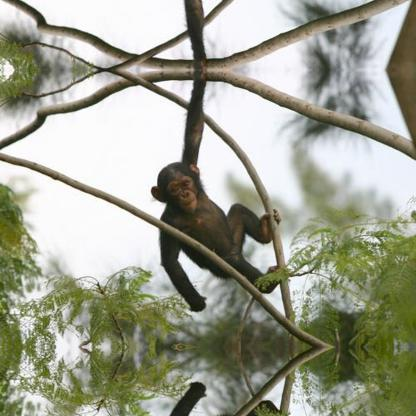Monkey: (152, 68, 280, 310), (152, 0, 281, 70)
